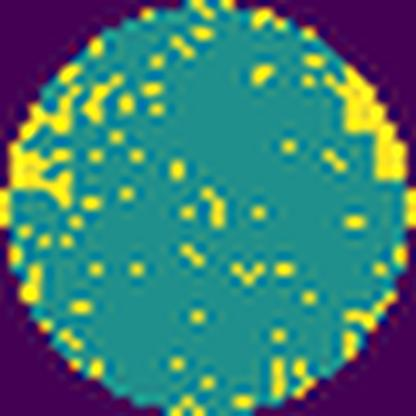Edge-Loc: (0, 76, 86, 215), (322, 63, 410, 181)
